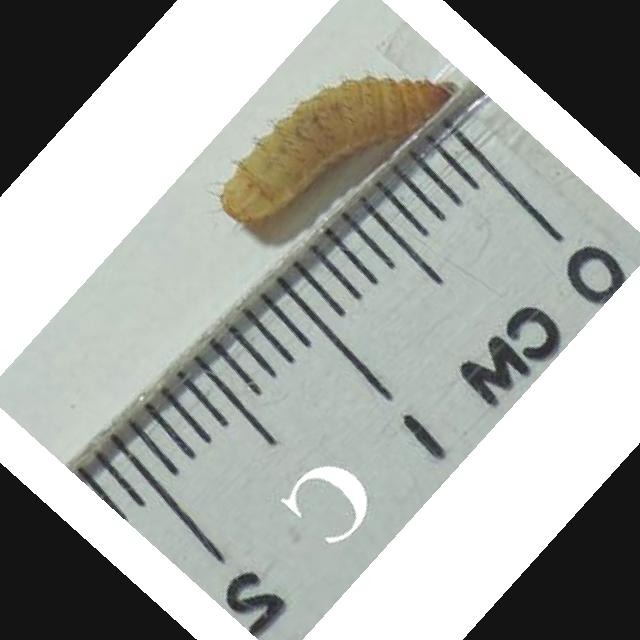Maggot: (217, 75, 458, 227)
